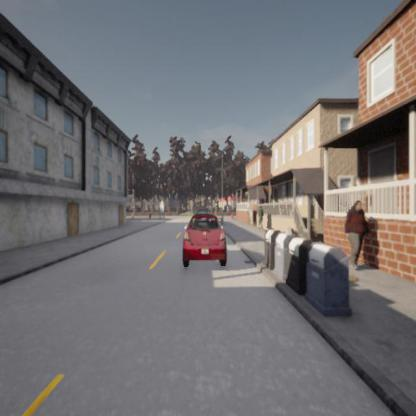person: (343, 201, 369, 270)
vehicle: (182, 212, 227, 267)
